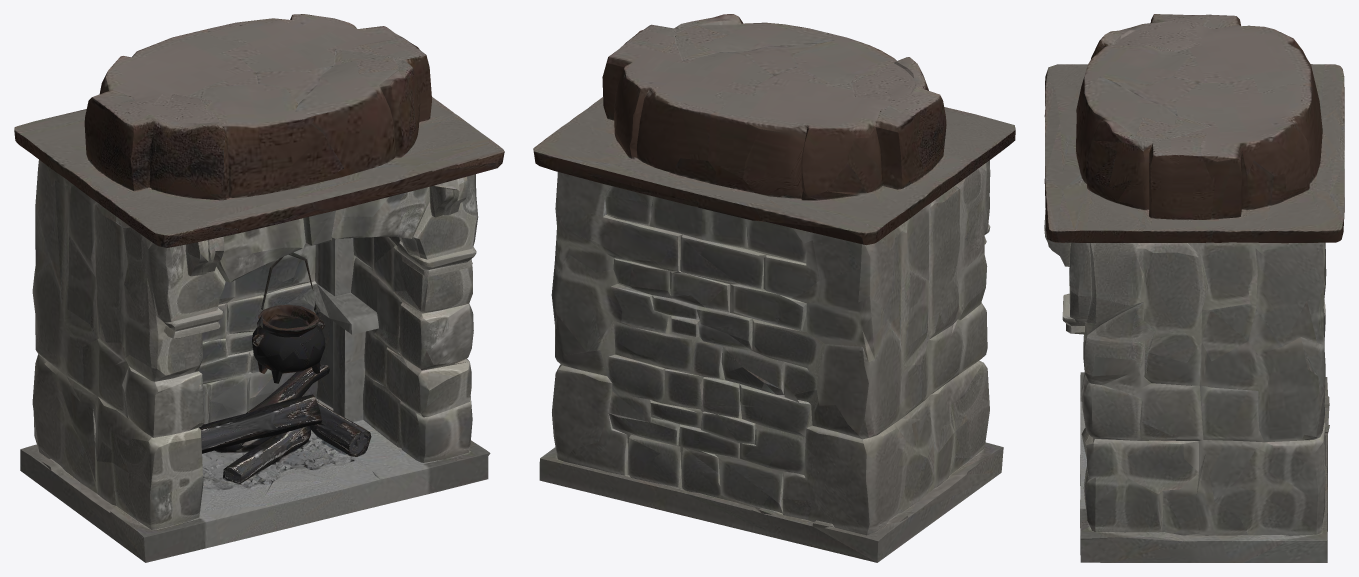
File: hearth.glb
3 renders of one model, left to right at view 1: azimuth 30°, elevation 25°; view 2: azimuth 150°, elevation 25°; view 3: azimuth 270°, elevation 25°, orthographic.
Parts seen in each view (by area): view 1: Mesh_0; view 2: Mesh_0; view 3: Mesh_0.
Part boxes in pixels (x1,y1,x2,y2): Mesh_0: (14, 14, 504, 562); Mesh_0: (533, 14, 1015, 562); Mesh_0: (1044, 14, 1344, 562).
Bounding box in the file's own units: 1.8 × 2.02 × 1.37.
Materials: 1 (1 with a texture image).
